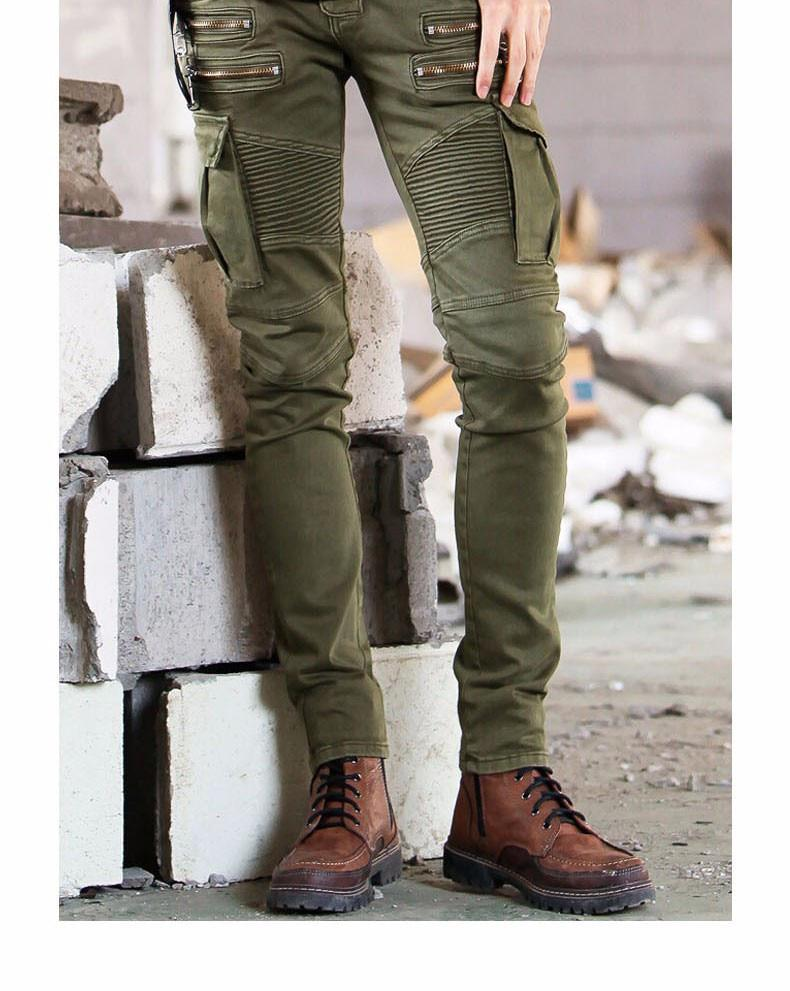jeans: (158, 6, 578, 772)
